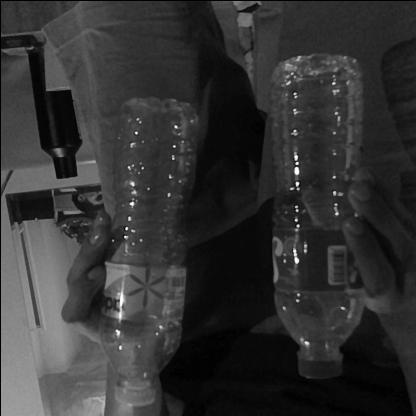plastic_bottles: (270, 48, 366, 376), (104, 100, 192, 410)
